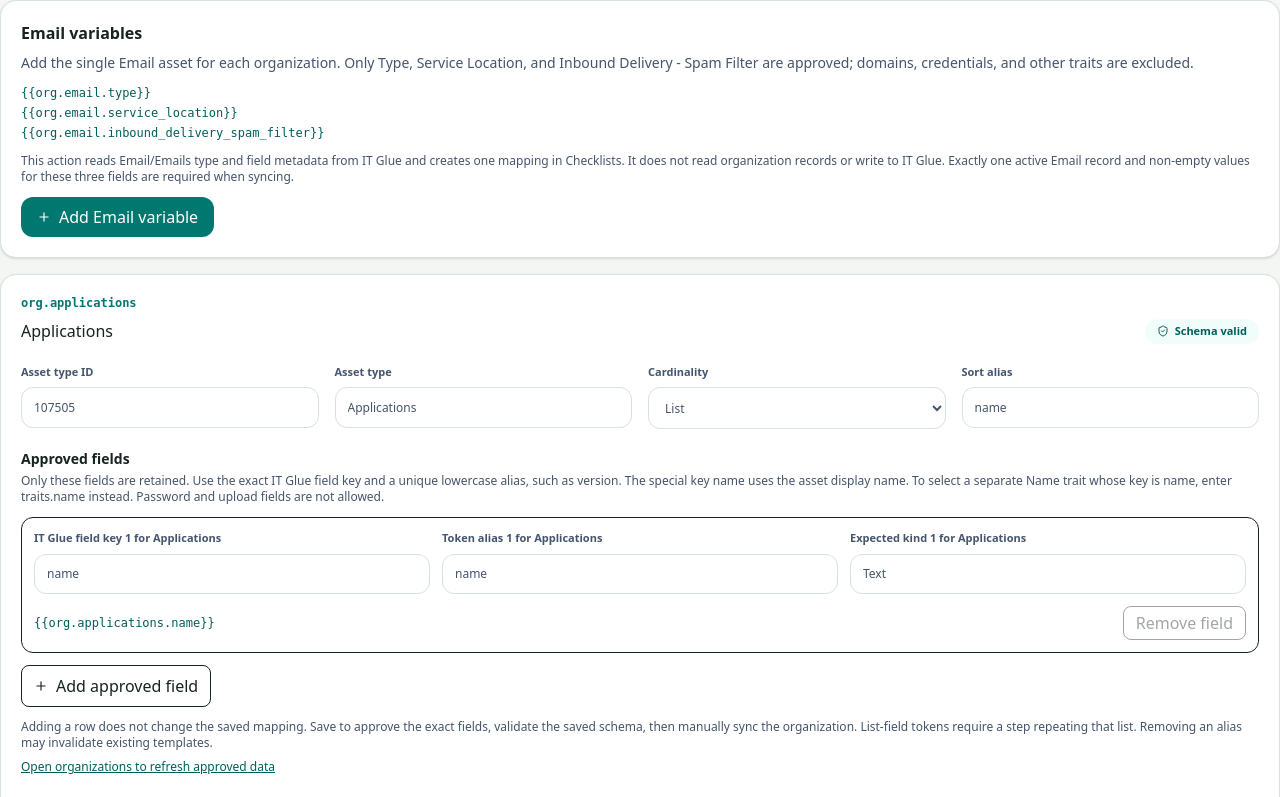
Test: explicit approval of additional variable fields › retains existing mappings and shows a safe error when Email discovery fails
The image size is (1280, 797).
Click the button "Add Email variable".
click(118, 217)  # box [21, 197, 214, 237]
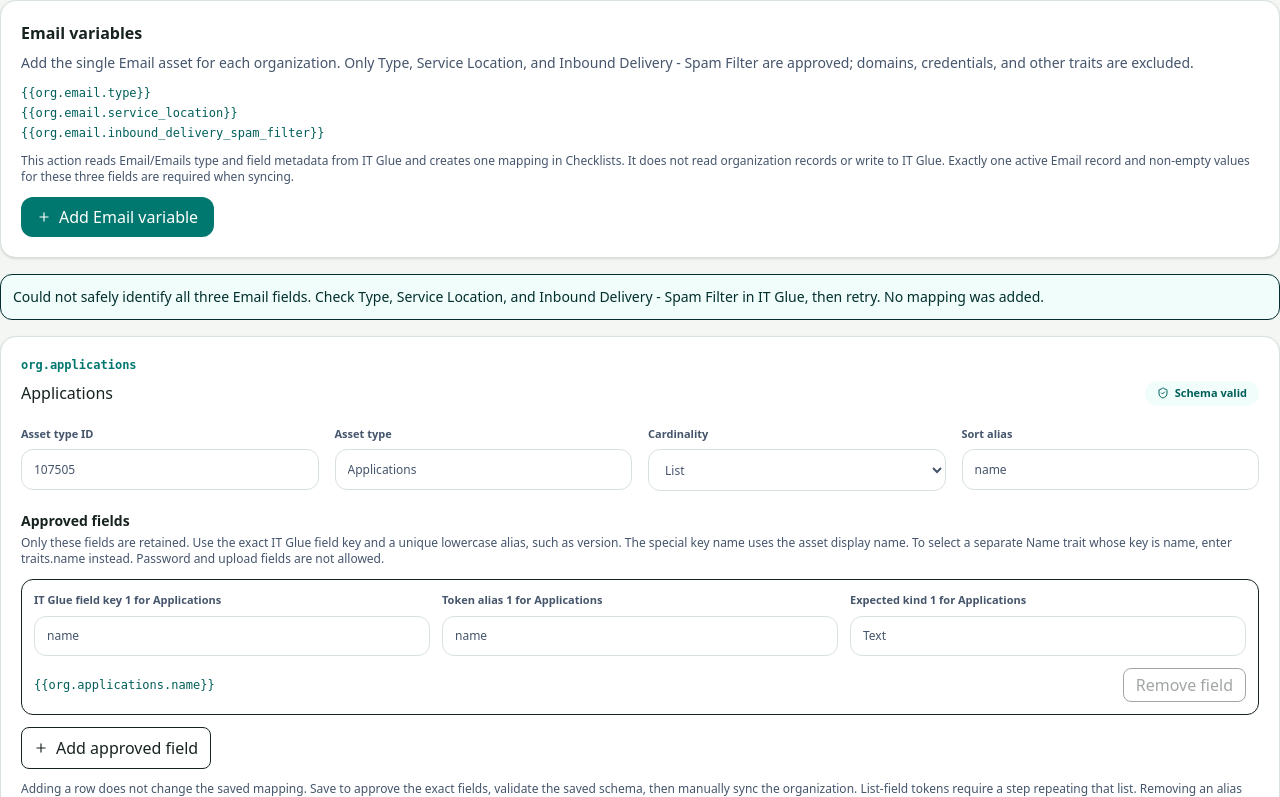
Expected: the field labelled "IT Glue field key 1 for Applications" is shown, [34, 616, 430, 656]
Now the text "Could not safely identify all three Email fields" is shown, box [13, 287, 1044, 306]
